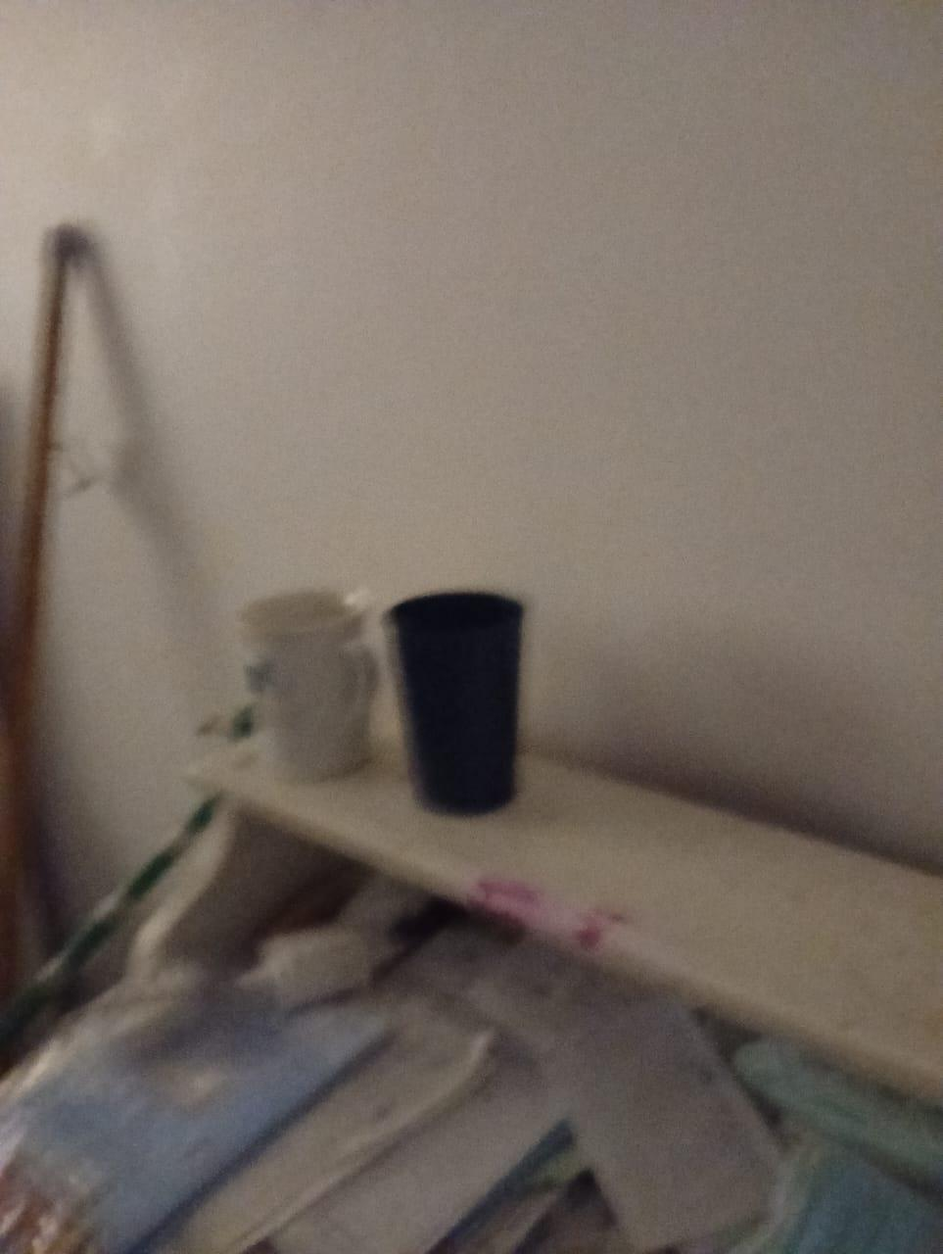cup: (385, 592, 523, 813), (241, 590, 376, 781)
